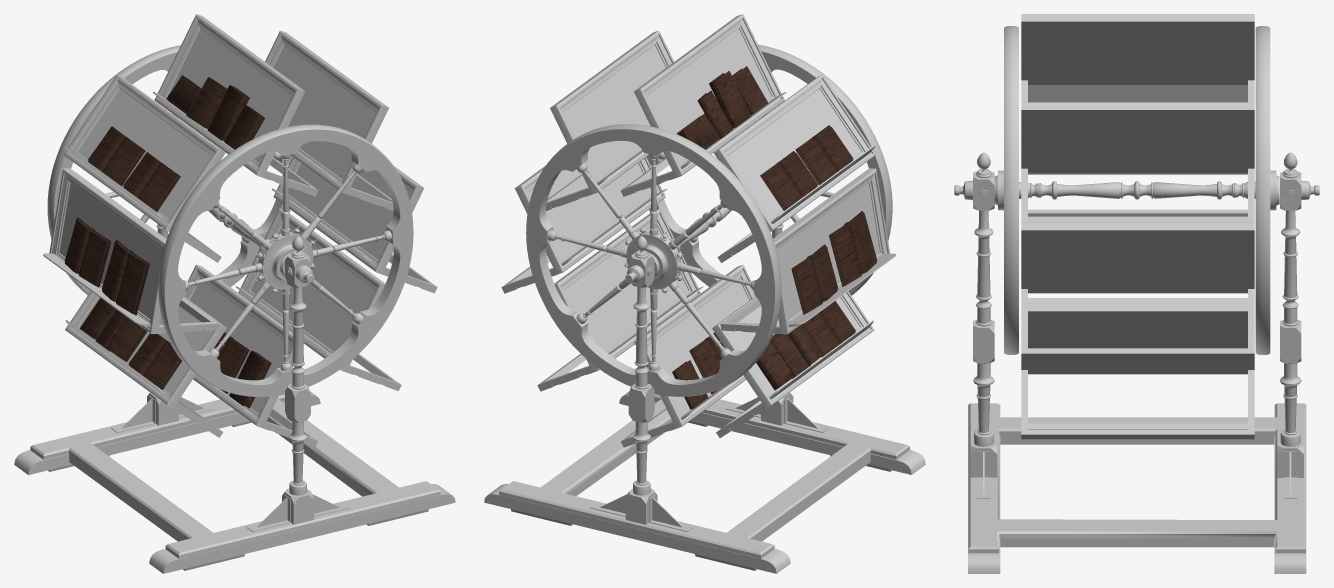
Rendered from floor.fbx.
The picture shows the model from 3 angles, left to right: view 1: azimuth 30°, elevation 25°; view 2: azimuth 150°, elevation 25°; view 3: azimuth 270°, elevation 25°; orthographic projection. The views are drawn at different scales.
Parts seen in each view (by area): view 1: Plane001, Object002, Box023, Box019, Box024, Box022, Box017, Box018, Box020, Box021, Box036, Box035 (+11 smaller); view 2: Plane001, Object002, Box023, Box019, Box024, Box022, Box017, Box018, Box020, Box021, Box036, Box035 (+12 smaller); view 3: Plane001, Box018, Box024, Box022, Box019, Object002, Box017, Box020, Box021.
Part boxes in pixels (left/top/right/bottom): Plane001: left=14, top=224, right=455, bottom=573; Object002: left=47, top=45, right=413, bottom=396; Box023: left=63, top=74, right=225, bottom=262; Box019: left=153, top=14, right=318, bottom=196; Box024: left=265, top=30, right=393, bottom=210; Box022: left=236, top=208, right=401, bottom=390; Box017: left=43, top=168, right=218, bottom=333; Box018: left=272, top=157, right=437, bottom=293; Box020: left=184, top=264, right=318, bottom=446; Box021: left=65, top=291, right=226, bottom=437; Box036: left=102, top=239, right=149, bottom=315; Box035: left=64, top=217, right=110, bottom=287; Plane001: left=484, top=224, right=925, bottom=573; Object002: left=526, top=44, right=892, bottom=396; Box023: left=714, top=74, right=875, bottom=262; Box019: left=620, top=14, right=786, bottom=196; Box024: left=546, top=30, right=674, bottom=210; Box022: left=537, top=208, right=703, bottom=391; Box017: left=720, top=168, right=895, bottom=334; Box018: left=501, top=157, right=667, bottom=293; Box020: left=621, top=265, right=755, bottom=447; Box021: left=712, top=291, right=874, bottom=437; Box036: left=829, top=211, right=877, bottom=286; Box035: left=791, top=244, right=838, bottom=314; Plane001: left=968, top=152, right=1306, bottom=573; Box018: left=1021, top=222, right=1254, bottom=358; Box024: left=1021, top=102, right=1254, bottom=222; Box022: left=1021, top=303, right=1254, bottom=439; Box019: left=1021, top=14, right=1254, bottom=102; Object002: left=954, top=26, right=1319, bottom=354; Box017: left=1028, top=85, right=1247, bottom=216; Box020: left=1028, top=298, right=1247, bottom=429; Box021: left=1028, top=216, right=1247, bottom=222.
Size of what is drawn, in the model's own units: 1170 by 1623 by 1096.
